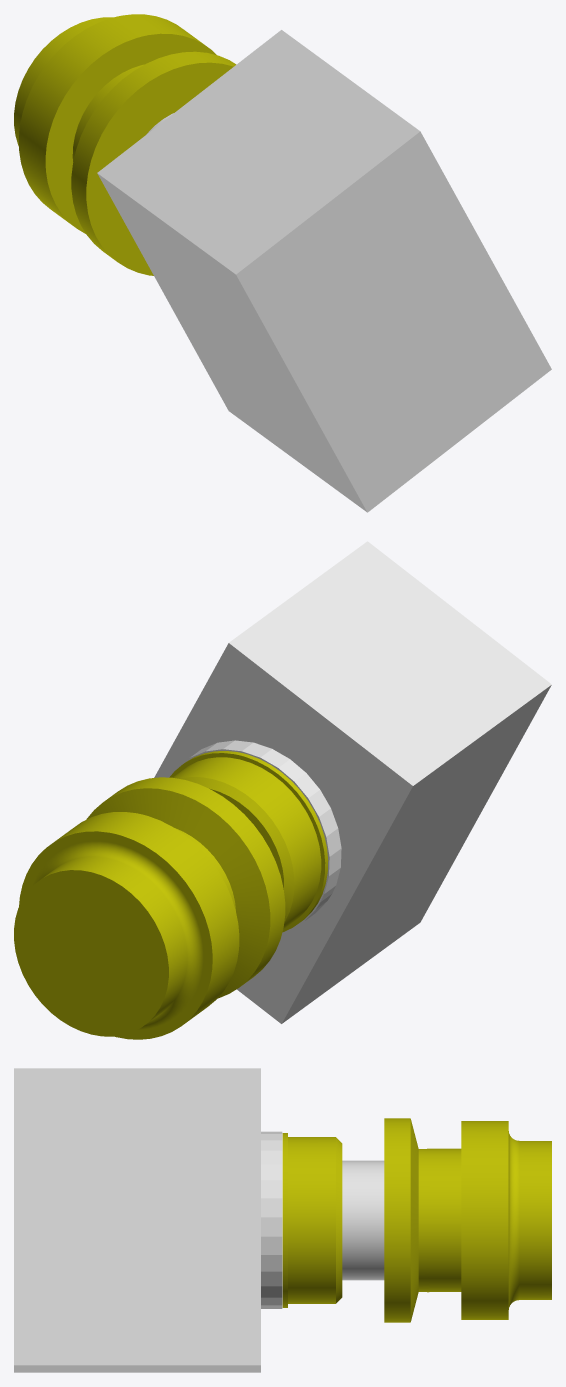
3 views of the same model, one above another, from view 1: azimuth 30°, elevation 25°; view 2: azimuth 150°, elevation 25°; view 3: azimuth 270°, elevation 25° (orthographic). The views are drawn at different scales.
Visible parts, largest first — view 1: schunkGrippe, Actor0, ft; view 2: schunkGrippe, Actor0, ft; view 3: schunkGrippe, ft, Actor0.
Boxes of the visible parts, x1=… form: schunkGrippe: x1=97, y1=30, x2=551, y2=512; Actor0: x1=14, y1=14, x2=216, y2=233; ft: x1=71, y1=51, x2=236, y2=275; schunkGrippe: x1=154, y1=541, x2=551, y2=1023; Actor0: x1=14, y1=812, x2=239, y2=1039; ft: x1=86, y1=751, x2=328, y2=998; schunkGrippe: x1=14, y1=1068, x2=282, y2=1372; ft: x1=282, y1=1118, x2=429, y2=1322; Actor0: x1=429, y1=1121, x2=551, y2=1319.
Size of the model in its own units: 0.1221 by 0.1361 by 0.2026.
